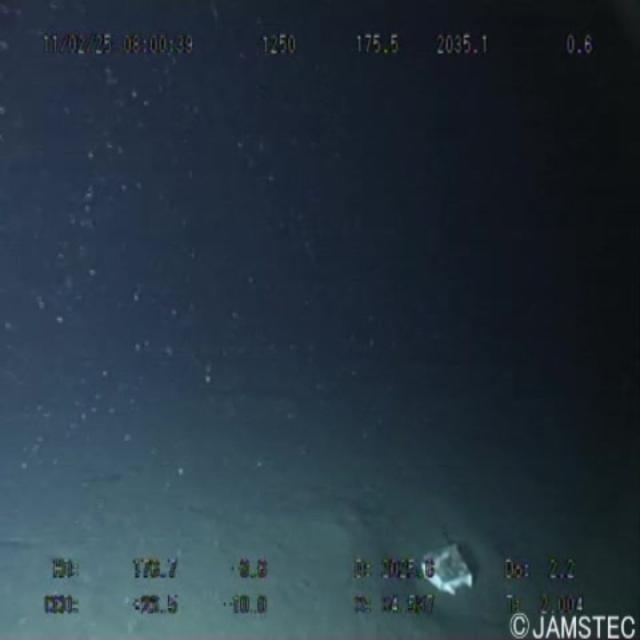Plastic: (420, 530, 479, 613)
